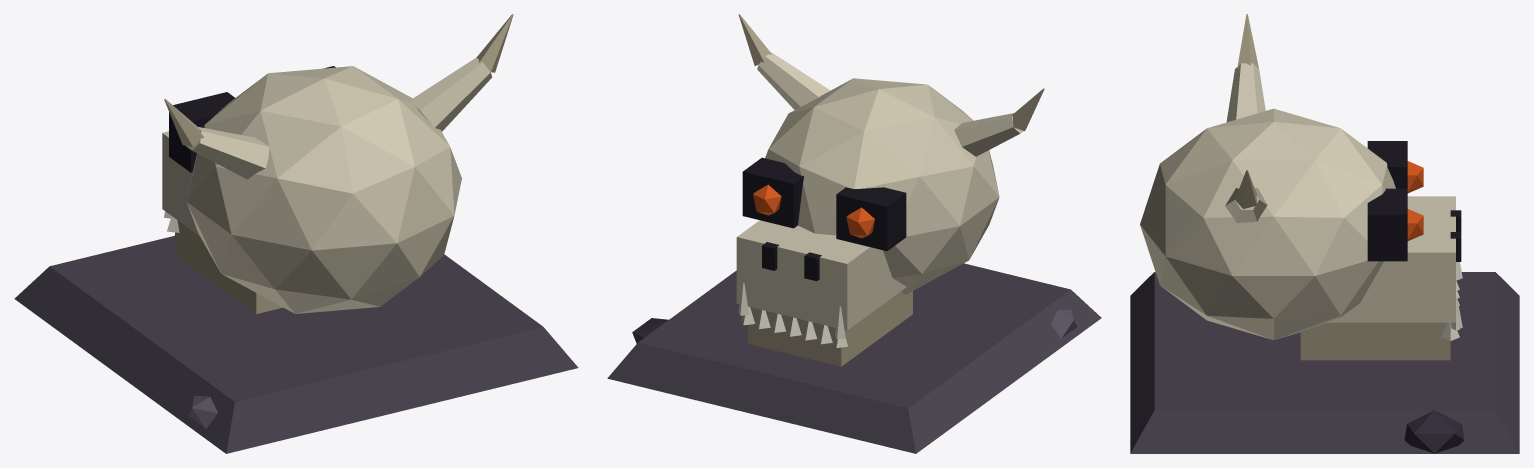
The model's file is Decor_DragonLair_Skull.fbx.
3 renders of one model, left to right at view 1: azimuth 30°, elevation 25°; view 2: azimuth 150°, elevation 25°; view 3: azimuth 270°, elevation 25°, orthographic. The views are drawn at different scales.
Parts seen in each view (by area): view 1: Skull_Body; view 2: Skull_Body; view 3: Skull_Body.
Boxes of the visible parts, box(x1,y1,x2,y2) form: Skull_Body: box(14, 14, 578, 453); Skull_Body: box(607, 14, 1101, 453); Skull_Body: box(1130, 14, 1519, 453).
Size of the model in its own units: 16 by 13.02 by 16.
